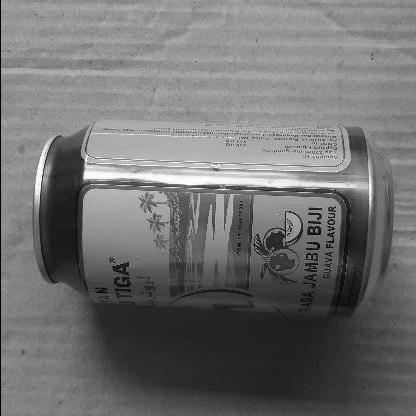alumunium_can: (29, 75, 398, 344)
